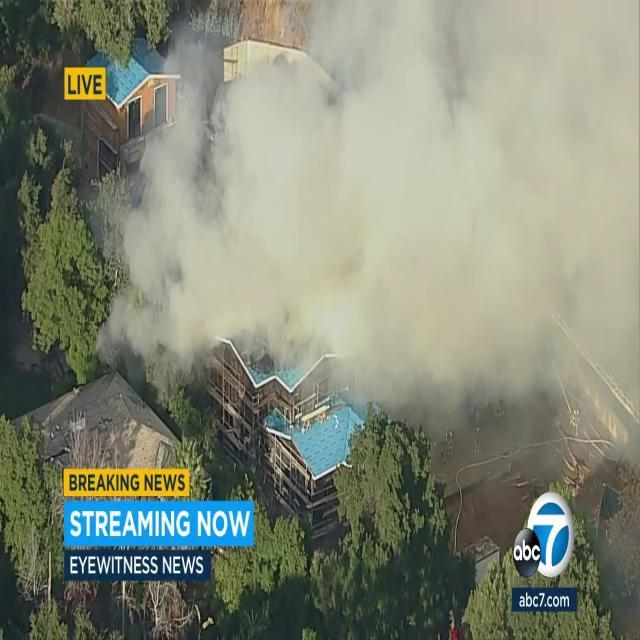Smoke: (114, 1, 640, 417)
